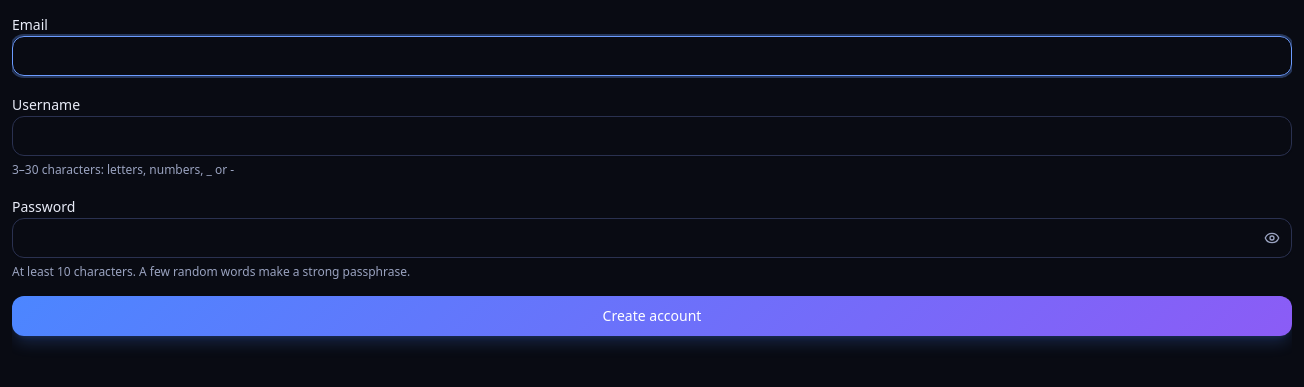
Test: RegisterForm › validates locally before hitting the API
Type "not-an-email" into the field labelled "Email" at (652, 56), box [12, 36, 1292, 76]
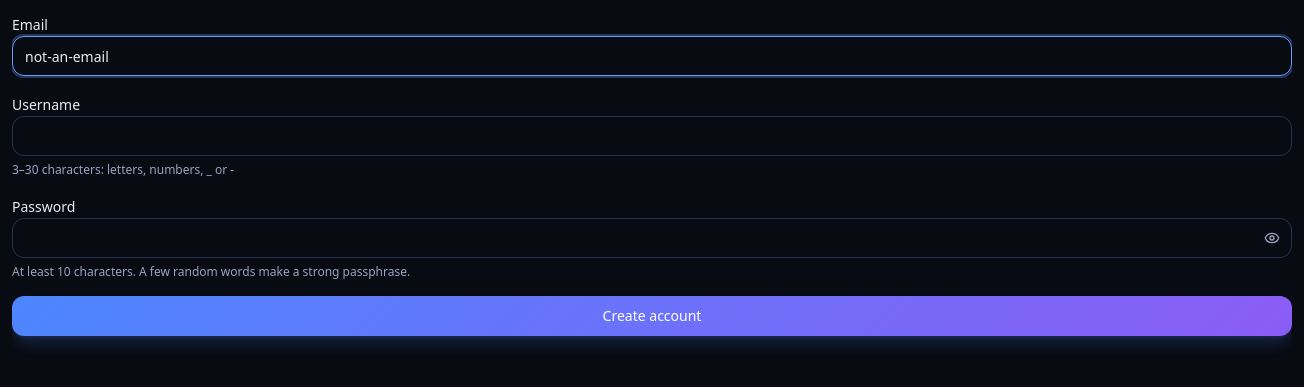
Type "a" into the field labelled "Username" at (652, 136), box [12, 116, 1292, 156]
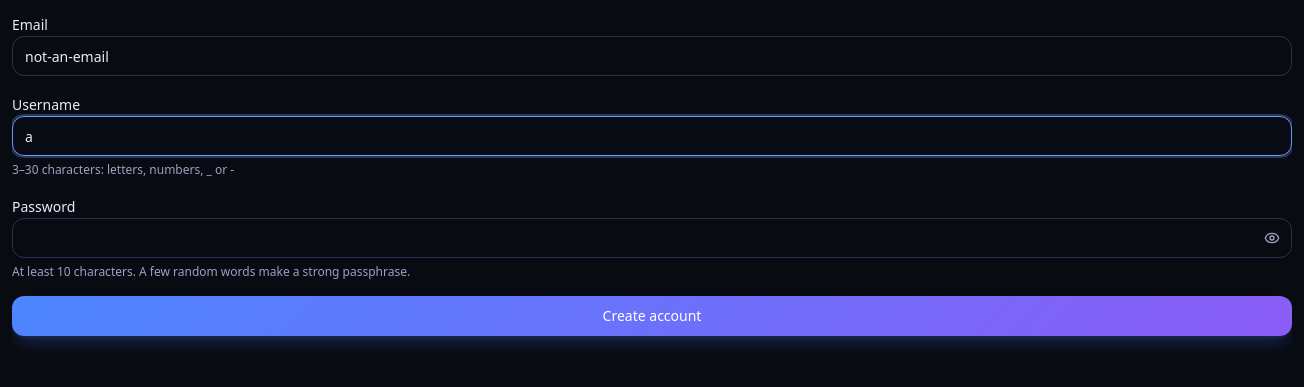
Type "short" into the password field labelled "Password" at (652, 238), box [12, 218, 1292, 258]
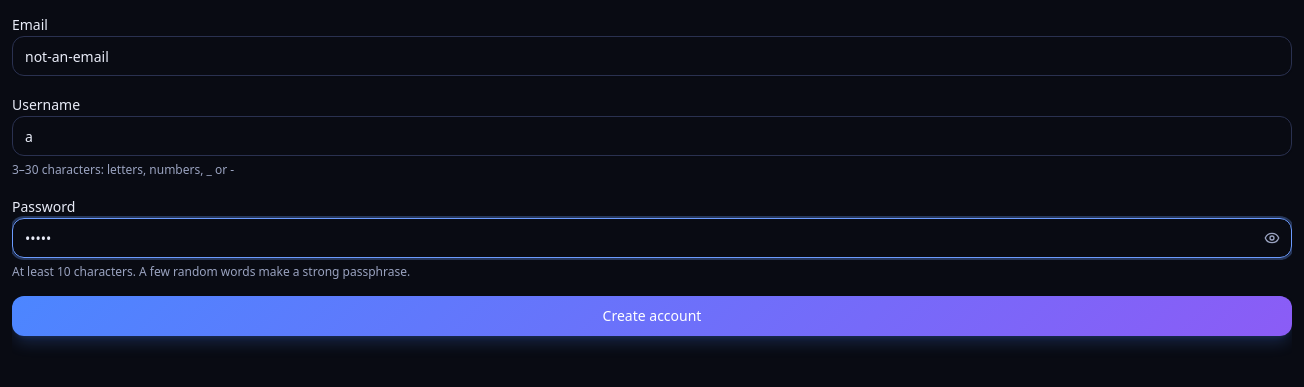
Click the button "Create account" at (652, 316), box [12, 296, 1292, 336]
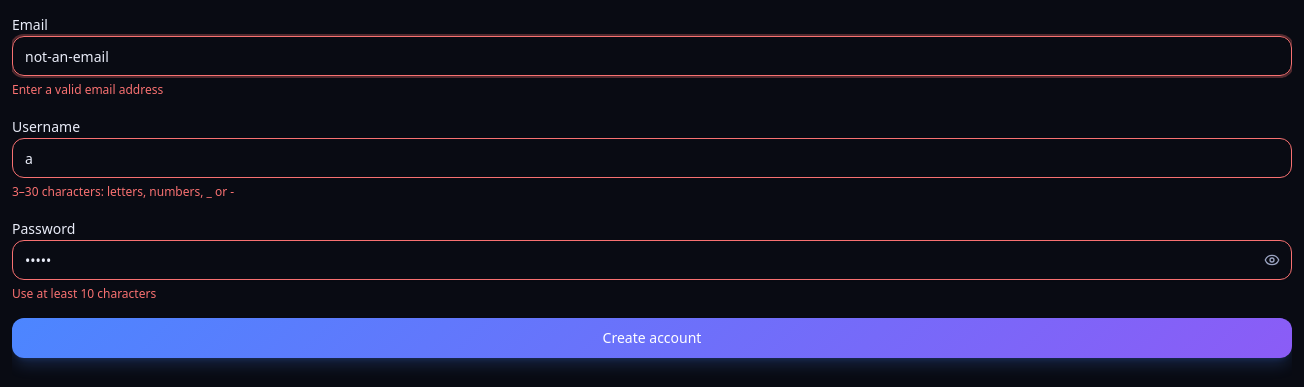
Expected: the text "3–30 characters: letters, numbers, _ or -" is shown, [12, 183, 234, 200]
Expected: the text "Enter a valid email address" is shown, [12, 81, 163, 98]
Expected: the text "Use at least 10 characters" is shown, [12, 285, 156, 302]
